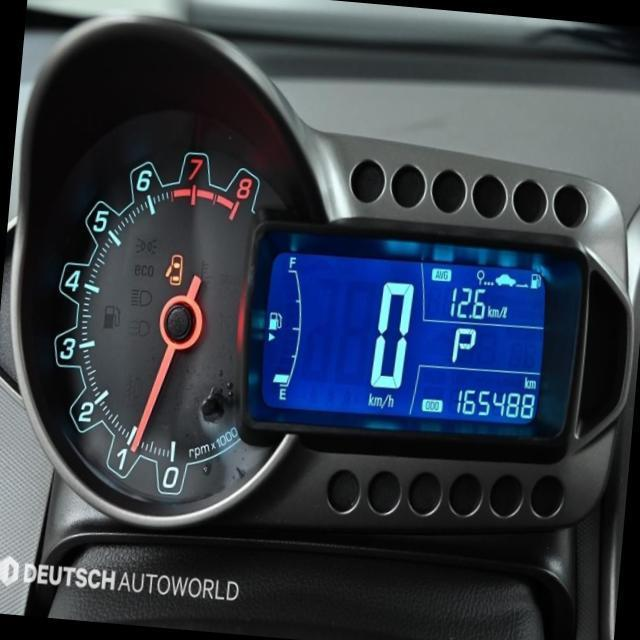Doors: (162, 250, 183, 286)
